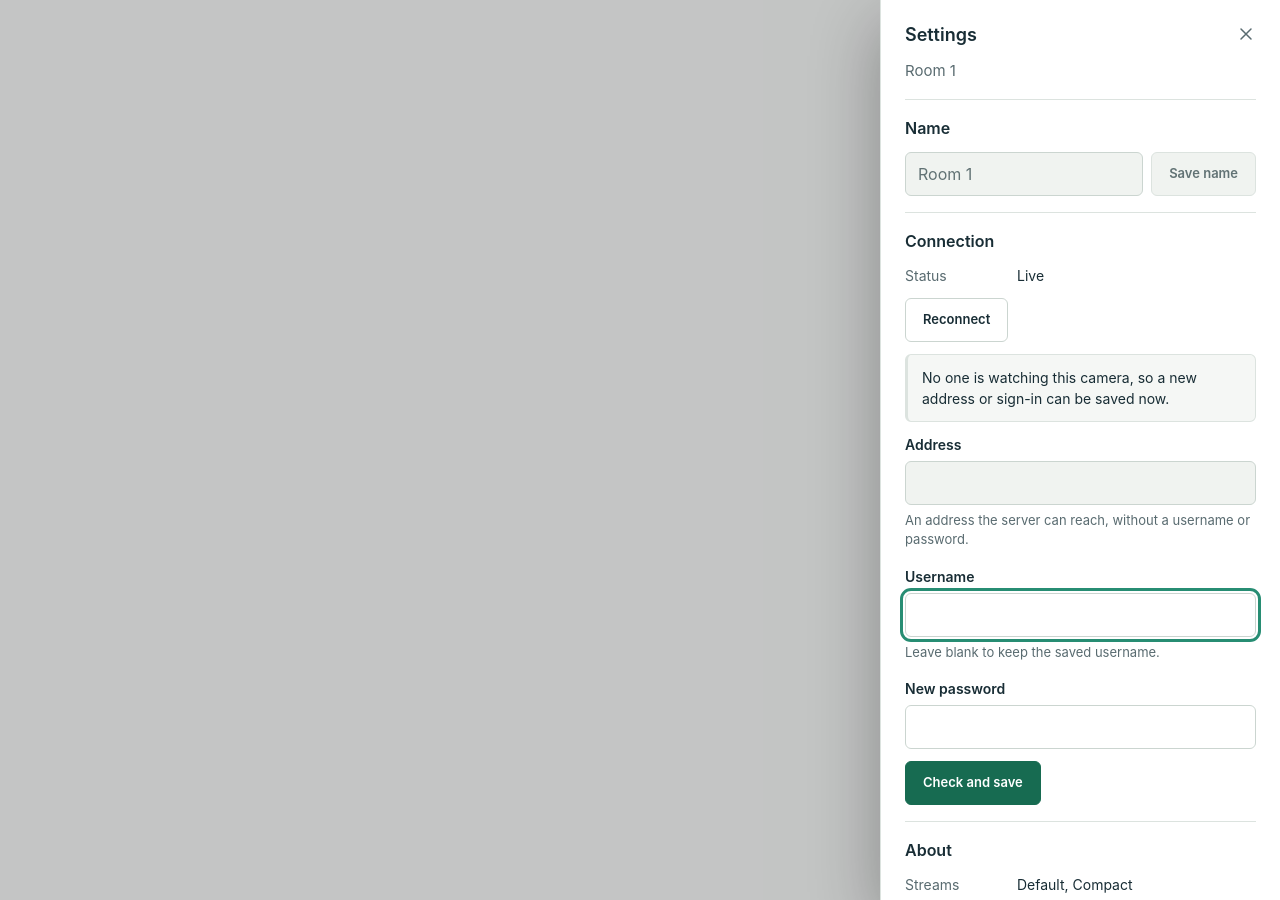
Test: opens a saved camera's settings in a drawer that says who must stop watching
This screenshot has width=1280, height=900.
Earlier steps of the test are not shown.
Later steps or results of the test are not shown.
Expected: the button "Check and save" is enabled, [905,761,1041,805]
Click the button "Reconnect".
click(957, 320)  # box [905,298,1008,342]
Type "PRIVATE-PASSWORD" into the password field labelled "New password".
click(1080, 727); type("PRIVATE-PASSWORD")  # box [905,705,1256,749]
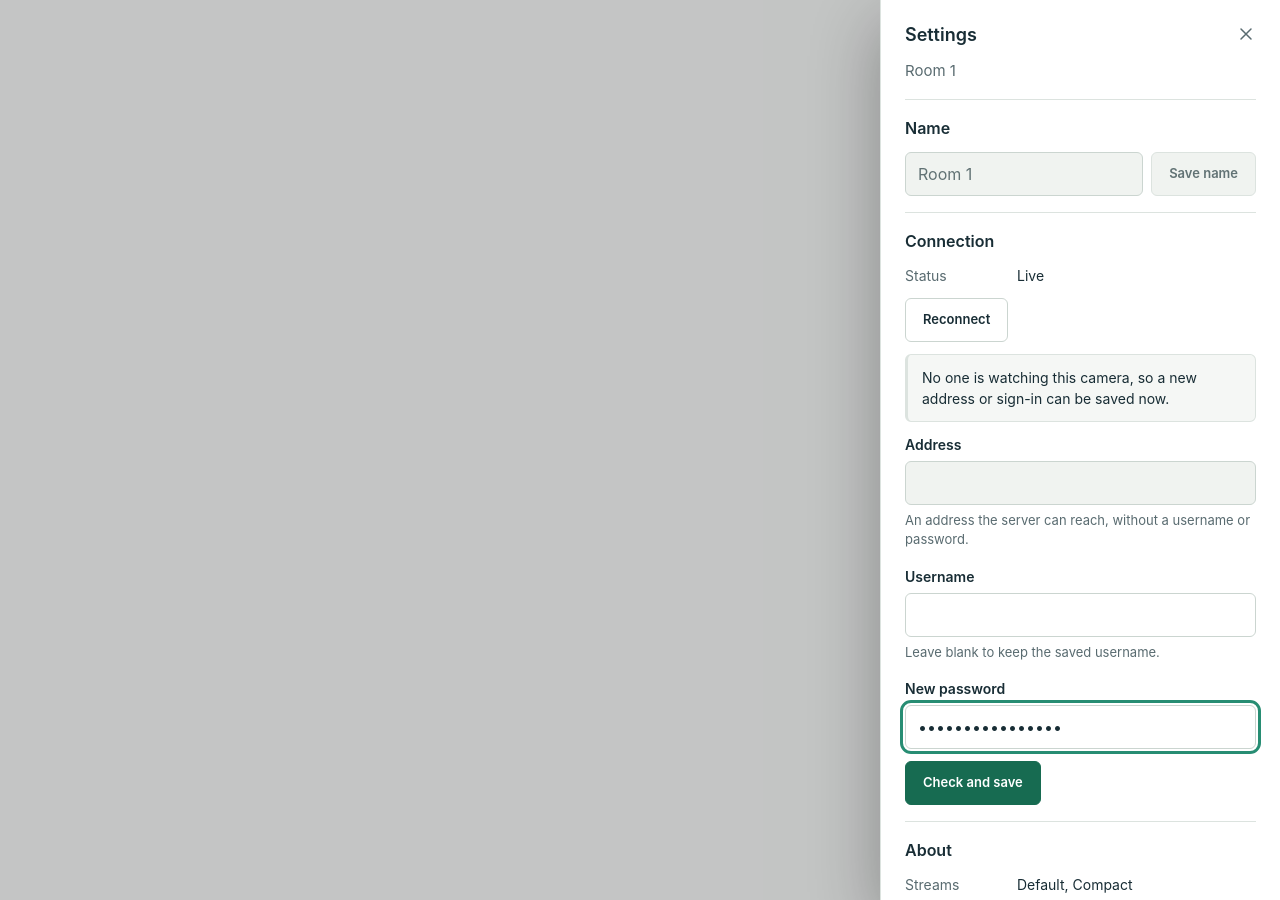
Click the button "Check and save".
click(973, 783)  # box [905,761,1041,805]
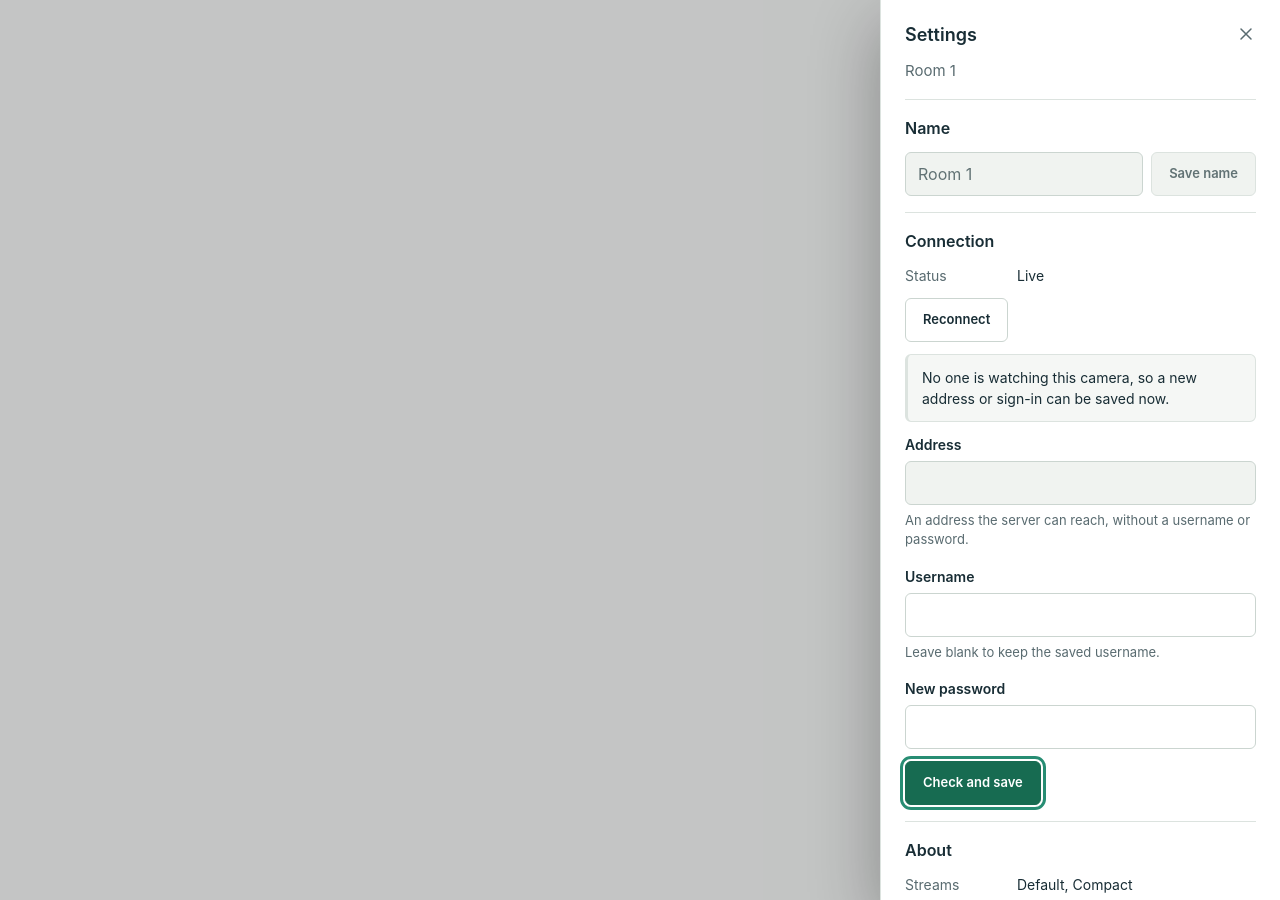
Expected: the password field labelled "New password" is empty, [905,705,1256,749]
